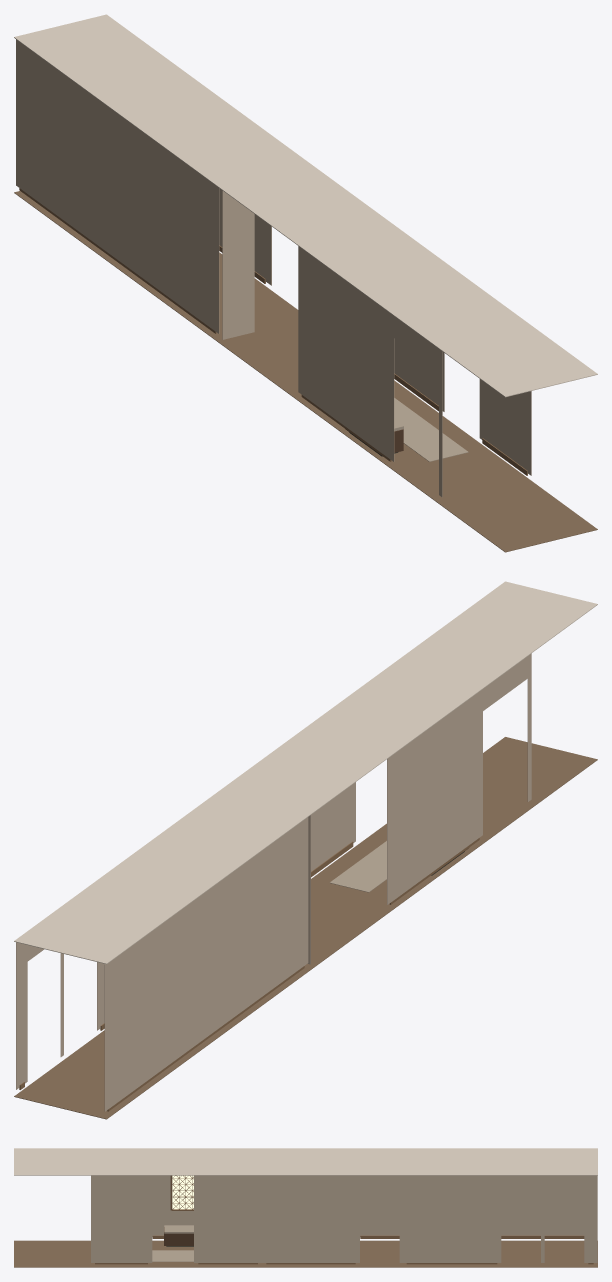
Rendered from corridor-1.glb.
The picture shows the model from 3 angles, top to bottom: view 1: azimuth 30°, elevation 25°; view 2: azimuth 150°, elevation 25°; view 3: azimuth 270°, elevation 25°; orthographic projection. The views are drawn at different scales.
Parts seen in each view (by area): view 1: DESIGN | Entrance coordinated ceiling, DESIGN | Entrance paired wall finish, DESIGN | Entrance floor finish, DESIGN | Entrance paired wall finish.003, DESIGN | Arch approach finish, DESIGN | Entrance paired wall finish.013, DESIGN | Entrance quiet runner, DESIGN | Entrance paired wall finish.012, DESIGN | Entrance paired wall finish.006, DESIGN | Entrance paired wall finish.002; view 2: DESIGN | Entrance coordinated ceiling, DESIGN | Entrance paired wall finish, DESIGN | Entrance floor finish, DESIGN | Entrance paired wall finish.003, DESIGN | Entrance paired wall finish.012, DESIGN | Entrance paired wall finish.005, DESIGN | Entrance quiet runner, DESIGN | Entrance paired wall finish.002, DESIGN | Entrance paired wall finish.001; view 3: DESIGN | Entrance coordinated ceiling, DESIGN | Entrance paired wall finish.006, DESIGN | Entrance paired wall finish.009, DESIGN | Entrance floor finish, DESIGN | Entrance paired wall finish.012, DESIGN | Entrance paired wall finish, DESIGN | Entrance paired wall finish.013, DESIGN | Entrance paired wall finish.003, DESIGN | Entrance paired wall finish.005, DESIGN | Kumiko opal diffuser, DESIGN | Entrance paired wall finish.007, DESIGN | Entrance paired wall finish.010 (+8 smaller).
Boxes of the visible parts, <box> form: DESIGN | Entrance coordinated ceiling: <box>14,14,597,397</box>; DESIGN | Entrance paired wall finish: <box>16,39,219,333</box>; DESIGN | Entrance floor finish: <box>14,191,597,552</box>; DESIGN | Entrance paired wall finish.003: <box>298,246,394,461</box>; DESIGN | Arch approach finish: <box>222,190,254,339</box>; DESIGN | Entrance paired wall finish.013: <box>479,379,531,475</box>; DESIGN | Entrance quiet runner: <box>394,398,468,461</box>; DESIGN | Entrance paired wall finish.012: <box>394,339,444,411</box>; DESIGN | Entrance paired wall finish.006: <box>219,188,268,283</box>; DESIGN | Entrance paired wall finish.002: <box>394,316,438,370</box>; DESIGN | Entrance coordinated ceiling: <box>14,581,597,964</box>; DESIGN | Entrance paired wall finish: <box>104,817,308,1111</box>; DESIGN | Entrance floor finish: <box>14,737,597,1119</box>; DESIGN | Entrance paired wall finish.003: <box>387,689,482,904</box>; DESIGN | Entrance paired wall finish.012: <box>311,782,355,871</box>; DESIGN | Entrance paired wall finish.005: <box>16,942,27,1089</box>; DESIGN | Entrance quiet runner: <box>329,841,386,892</box>; DESIGN | Entrance paired wall finish.002: <box>483,656,527,710</box>; DESIGN | Entrance paired wall finish.001: <box>527,653,531,801</box>; DESIGN | Entrance coordinated ceiling: <box>14,1148,597,1175</box>; DESIGN | Entrance paired wall finish.006: <box>402,1175,501,1262</box>; DESIGN | Entrance paired wall finish.009: <box>262,1175,359,1262</box>; DESIGN | Entrance floor finish: <box>14,1240,597,1267</box>; DESIGN | Entrance paired wall finish.012: <box>194,1175,262,1262</box>; DESIGN | Entrance paired wall finish: <box>360,1176,584,1236</box>; DESIGN | Entrance paired wall finish.013: <box>91,1175,152,1262</box>; DESIGN | Entrance paired wall finish.003: <box>152,1175,193,1236</box>; DESIGN | Entrance paired wall finish.005: <box>584,1175,597,1262</box>; DESIGN | Kumiko opal diffuser: <box>172,1175,193,1209</box>; DESIGN | Entrance paired wall finish.007: <box>501,1175,540,1191</box>; DESIGN | Entrance paired wall finish.010: <box>360,1175,399,1191</box>.
Bounding box in the file's own units: 1.7 × 2.73 × 15.61.
